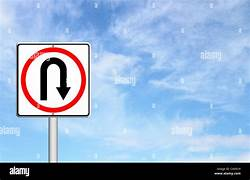back: (20, 47, 86, 113)
